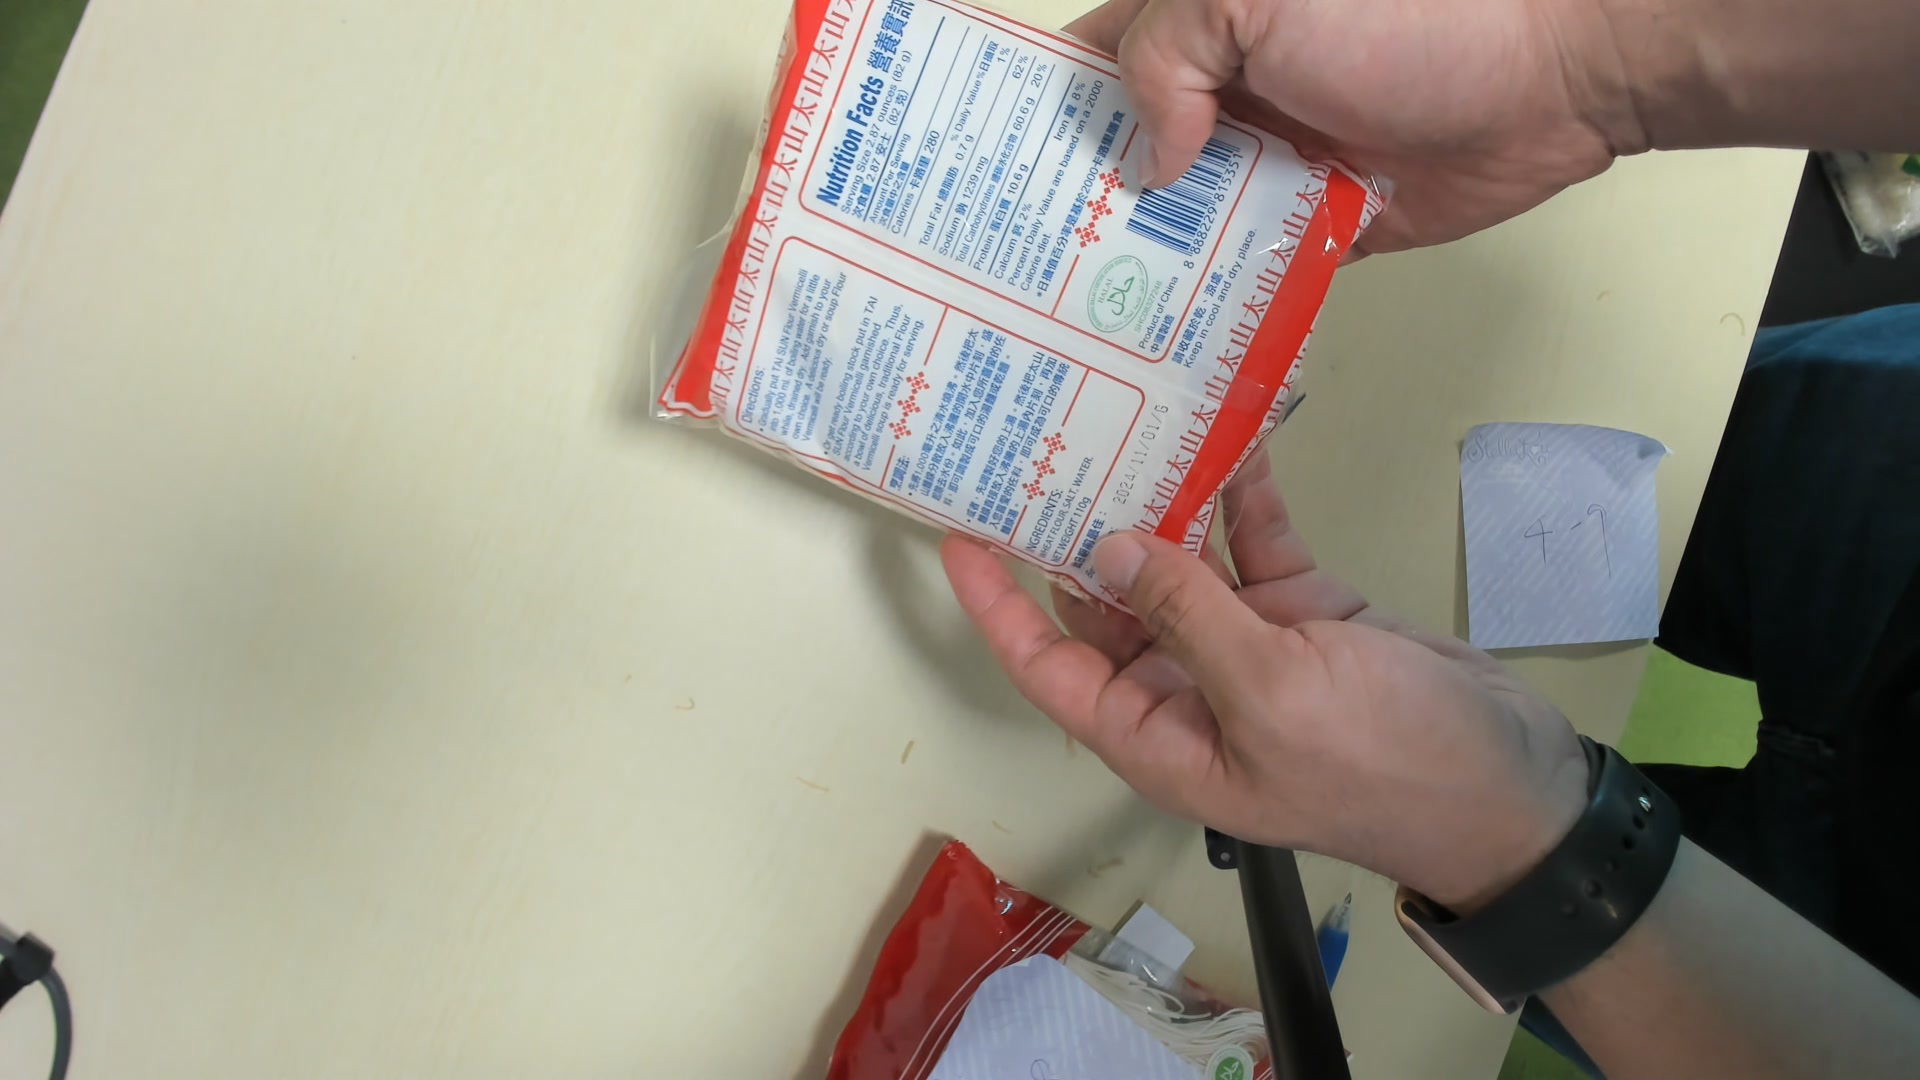BeeHoonVermicelli_100-199g_Halal_NonHealthy: (662, 7, 1378, 620)
